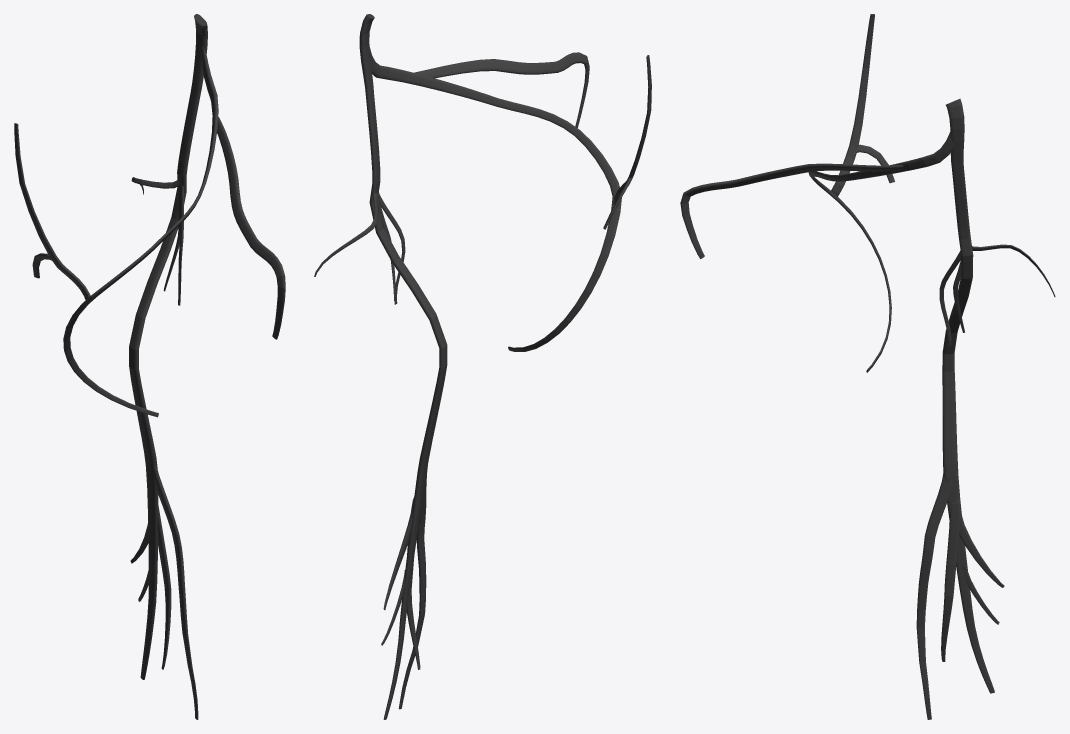
File: R_Trigeminus_Maxillary.glb
3 views of the same model, side by side, from view 1: azimuth 30°, elevation 25°; view 2: azimuth 150°, elevation 25°; view 3: azimuth 270°, elevation 25° (orthographic). The views are drawn at different scales.
Visible parts, largest first — view 1: R_Trigeminus_Maxillary; view 2: R_Trigeminus_Maxillary; view 3: R_Trigeminus_Maxillary.
Part boxes in pixels (x1,y1,x2,y2): R_Trigeminus_Maxillary: (14,14,285,719); R_Trigeminus_Maxillary: (314,14,651,719); R_Trigeminus_Maxillary: (680,14,1055,719).
Size of the model in its own units: 0.4288 by 1.19 by 0.6465.
Materials: 1 (1 with a texture image).
